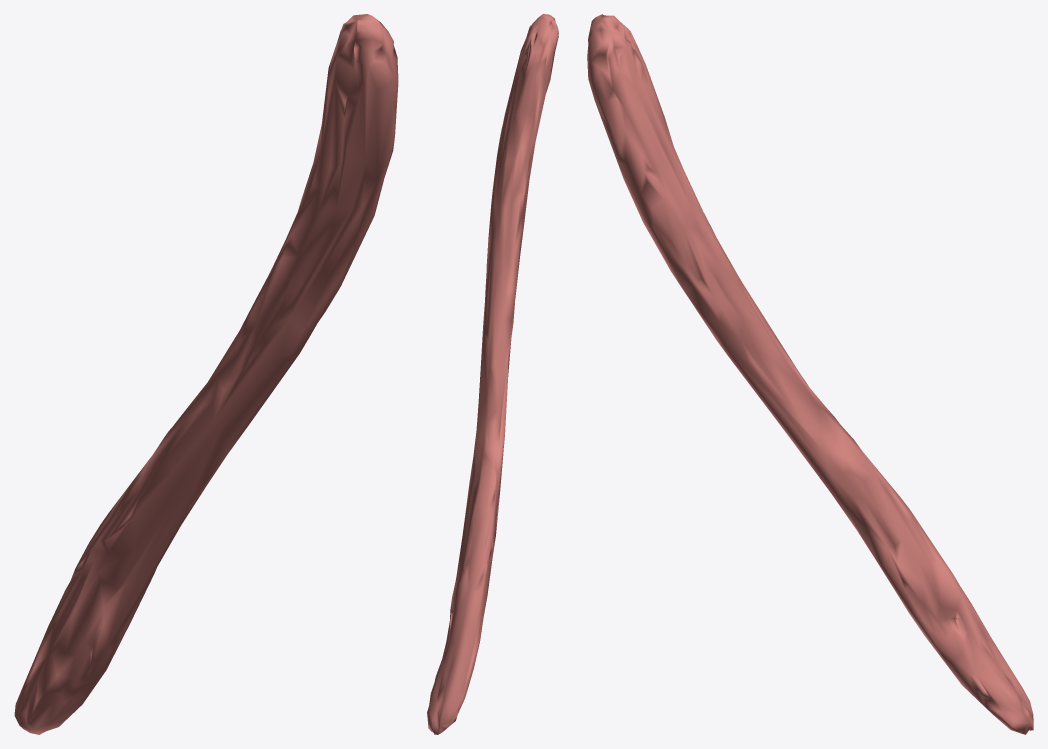
The picture shows the model from 3 angles, left to right: view 1: azimuth 30°, elevation 25°; view 2: azimuth 150°, elevation 25°; view 3: azimuth 270°, elevation 25°; orthographic projection. The views are drawn at different scales.
Visible parts, largest first — view 1: ZA_ad46dc5477484f26; view 2: ZA_ad46dc5477484f26; view 3: ZA_ad46dc5477484f26.
Boxes of the visible parts, left/top/right/bottom form: ZA_ad46dc5477484f26: left=14, top=14, right=398, bottom=734; ZA_ad46dc5477484f26: left=427, top=14, right=558, bottom=734; ZA_ad46dc5477484f26: left=587, top=14, right=1033, bottom=734.
Size of the model in its own units: 0.00424 by 0.0234 by 0.0126.
